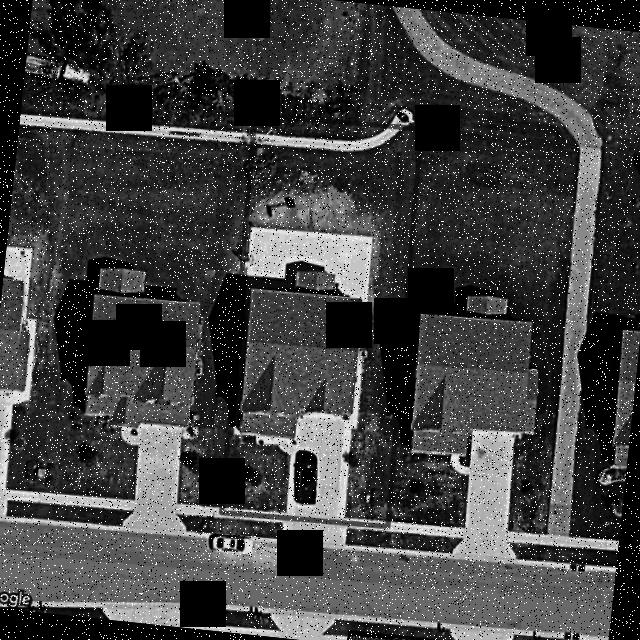Driveway: (256, 412, 351, 520)
Extra Driveway: (281, 520, 347, 545)
Extra Lawn: (216, 518, 283, 539), (344, 528, 390, 548)
Extra Sidewalk: (218, 514, 284, 523), (345, 525, 389, 532)
House: (239, 270, 361, 437)
Other: (245, 229, 371, 299)
Sidewalk: (233, 288, 257, 436), (255, 129, 400, 151), (350, 299, 367, 429), (224, 507, 286, 515), (344, 517, 385, 524)
